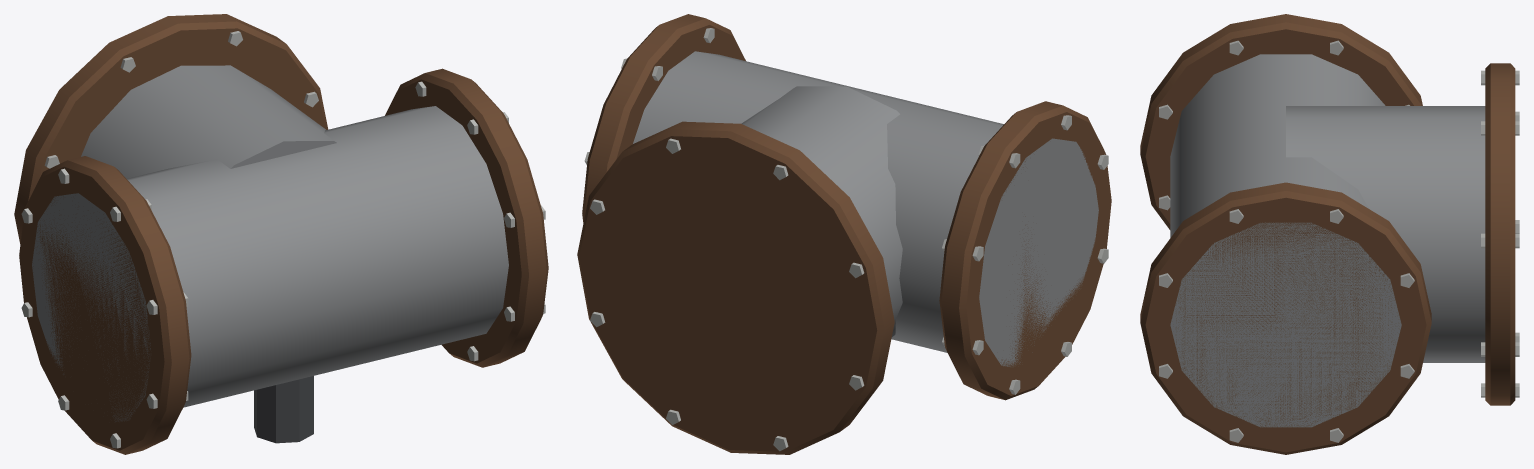
File: pipe-t-up.glb
3 views of the same model, side by side, from view 1: azimuth 30°, elevation 25°; view 2: azimuth 150°, elevation 25°; view 3: azimuth 270°, elevation 25° (orthographic). The views are drawn at different scales.
Parts seen in each view (by area): view 1: body; view 2: body; view 3: body.
Part boxes in pixels (x1,y1,x2,y2): body: (14, 14, 548, 454); body: (577, 14, 1111, 454); body: (1140, 14, 1519, 454).
Bounding box in the file's own units: 1.02 × 0.82 × 0.885.
